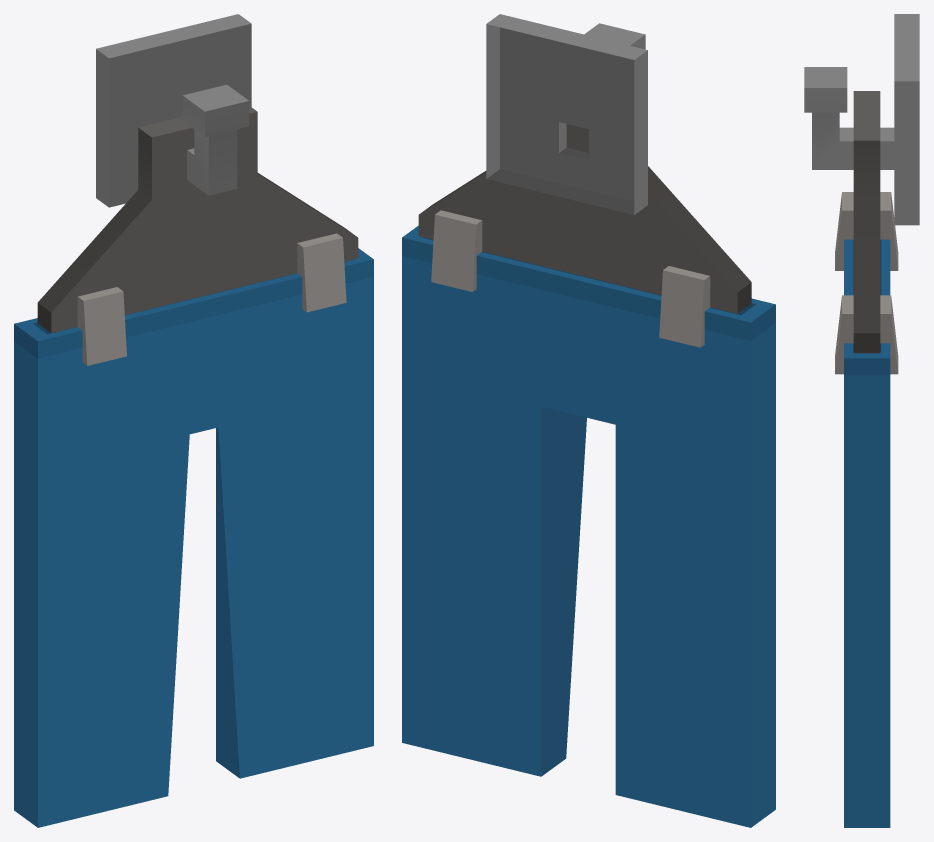
File: ClothesHook3.glb
3 renders of one model, left to right at view 1: azimuth 30°, elevation 25°; view 2: azimuth 150°, elevation 25°; view 3: azimuth 270°, elevation 25°, orthographic. The views are drawn at different scales.
Visible parts, largest first — view 1: SI_Prop_ClothesHook_03; view 2: SI_Prop_ClothesHook_03; view 3: SI_Prop_ClothesHook_03.
Part boxes in pixels (box(x1,y1,x2,y2)): SI_Prop_ClothesHook_03: box(14, 14, 373, 827); SI_Prop_ClothesHook_03: box(402, 14, 775, 827); SI_Prop_ClothesHook_03: box(804, 14, 919, 827).
Size of the model in its own units: 0.0075 by 0.0155 by 0.00231.
Materials: 1 (1 with a texture image).
